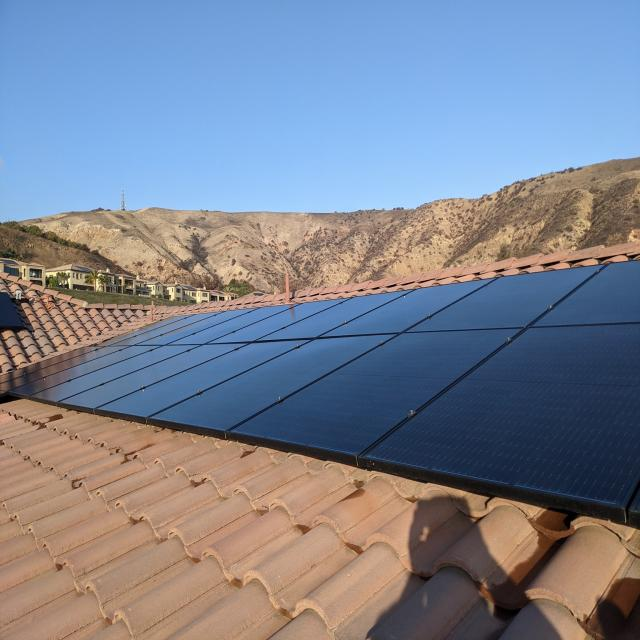clean-solar-panel: (1, 260, 640, 523)
